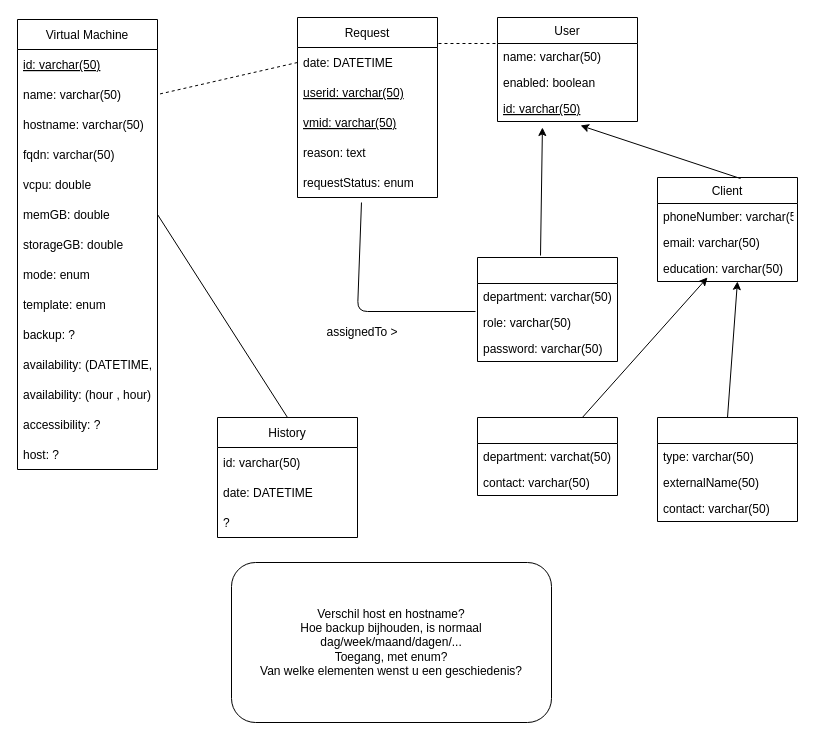
This 824x740 diagram has some shape labels left out. Here are the shapes that lost their labels. From the top down, the box of each, then its label:
(476, 256, 618, 362): Admin
(476, 416, 618, 496): InternalClient
(656, 416, 798, 522): ExternalClient
